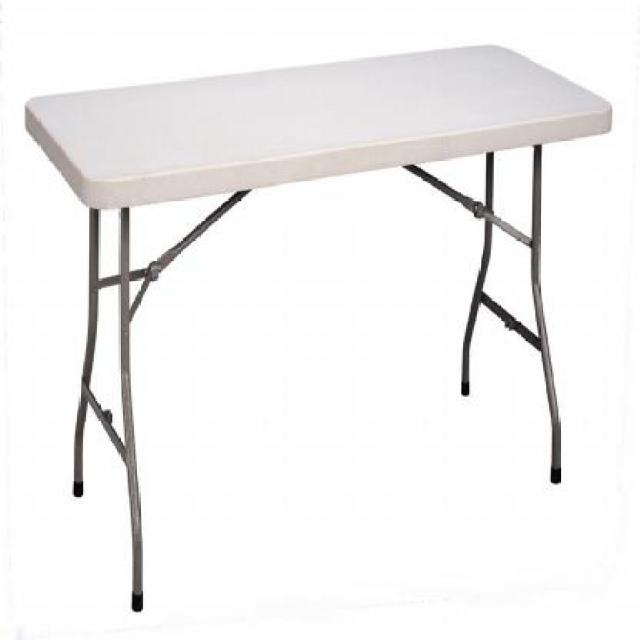table: (20, 41, 614, 612)
